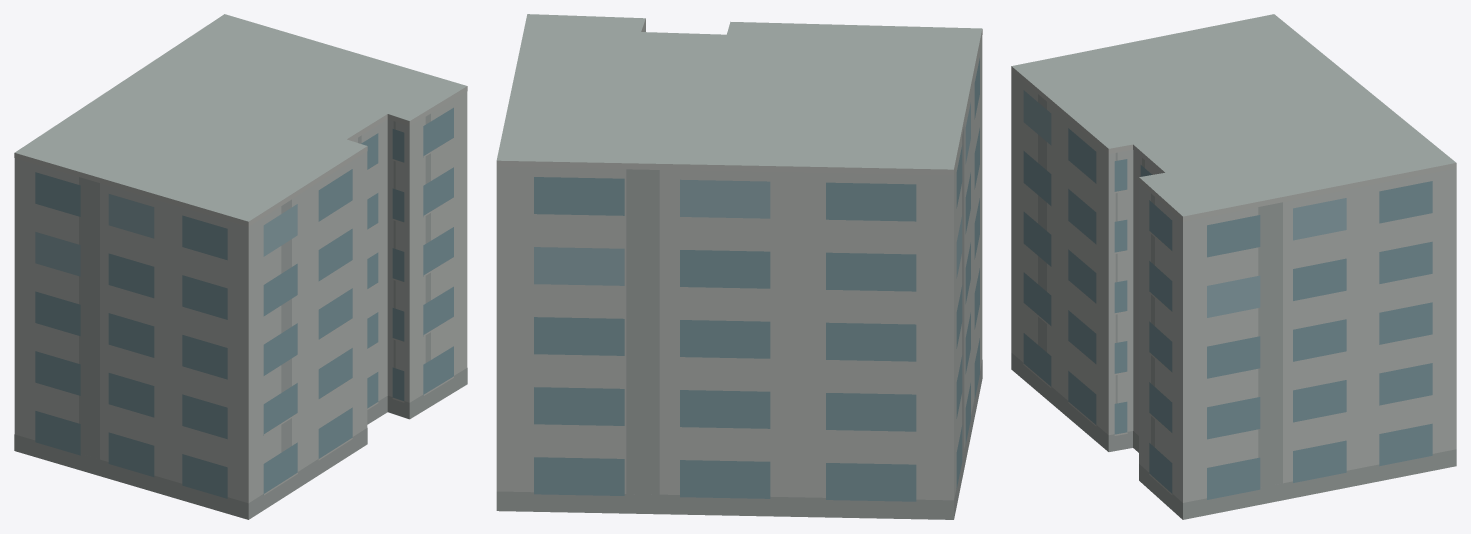
Rendered from survey-upis-32812949.glb.
3 views of the same model, side by side, from view 1: azimuth 30°, elevation 25°; view 2: azimuth 150°, elevation 25°; view 3: azimuth 270°, elevation 25° (orthographic). The views are drawn at different scales.
Parts seen in each view (by area): view 1: survey-upis-32812949.tmp; view 2: survey-upis-32812949.tmp; view 3: survey-upis-32812949.tmp.
Boxes of the visible parts, left/top/right/bottom form: survey-upis-32812949.tmp: left=14, top=14, right=467, bottom=519; survey-upis-32812949.tmp: left=496, top=14, right=982, bottom=519; survey-upis-32812949.tmp: left=1011, top=14, right=1456, bottom=519.
Size of the model in its own units: 19.91 by 13.9 by 18.49.
